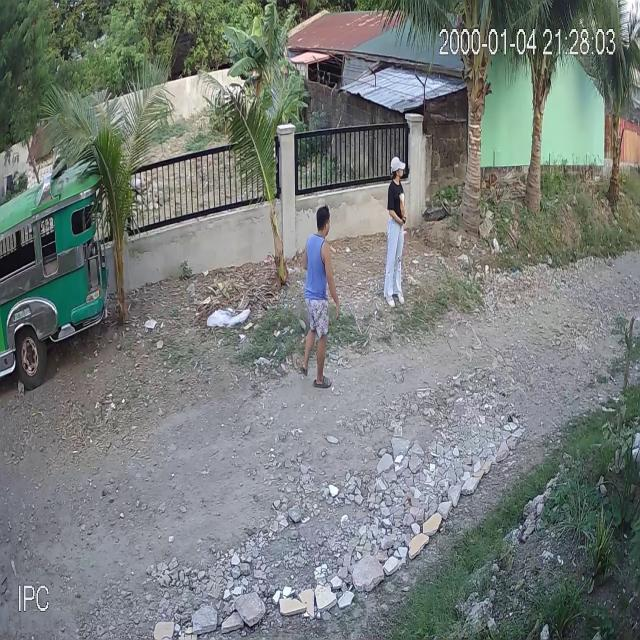standing: (381, 155, 408, 312)
walking: (293, 203, 342, 393)
